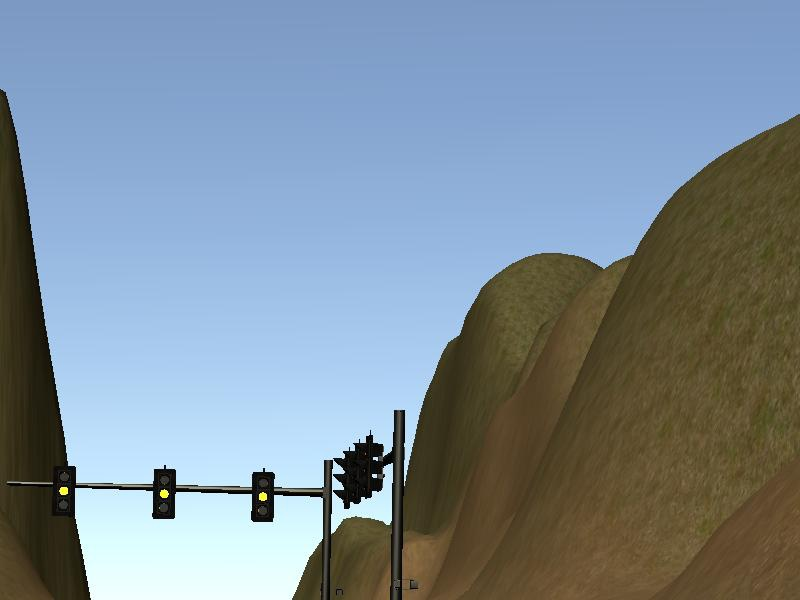yellow_light: (152, 471, 177, 517), (56, 468, 76, 512), (254, 474, 273, 520)
